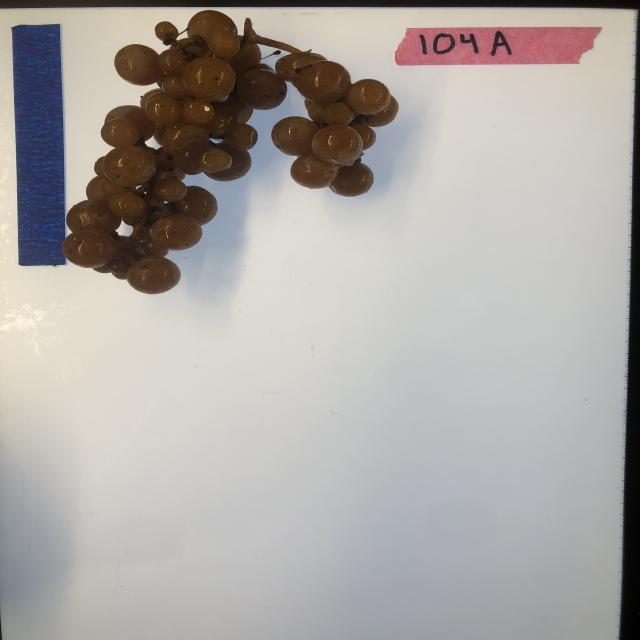grape_cluster: (63, 8, 401, 295)
index: (394, 25, 603, 65)
measure_label: (8, 23, 68, 267)
